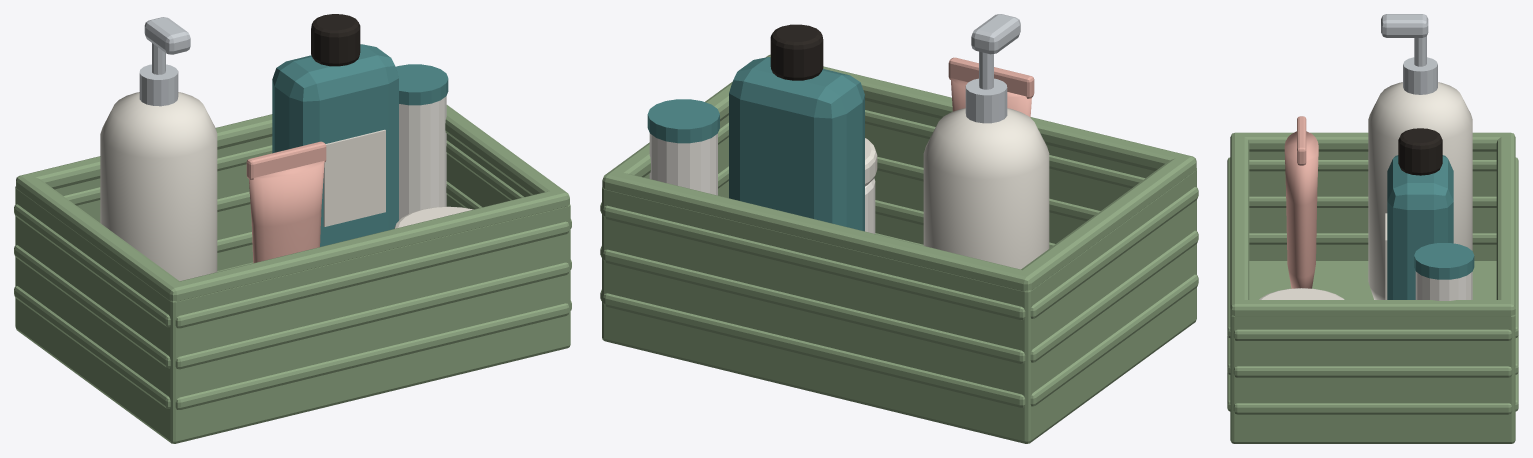
File: hh_cat_toiletries.glb
The picture shows the model from 3 angles, left to right: view 1: azimuth 30°, elevation 25°; view 2: azimuth 150°, elevation 25°; view 3: azimuth 270°, elevation 25°; orthographic projection. The views are drawn at different scales.
Parts seen in each view (by area): view 1: basket.001, pump_bottle, basket.002, shampoo, rim, tube, weave, weave.004, weave.008, shampoo_sticker, cotton_tub, rim.001 (+16 smaller); view 2: basket.003, basket.002, shampoo, pump_bottle, rim.002, basket.001, weave.002, weave.006, weave.010, rim, rim.001, cotton_tub (+15 smaller); view 3: basket.004, pump_bottle, basket.002, shampoo, basket, rim.003, tube, rim, rim.002, weave.007, weave.003, weave.011 (+16 smaller).
Part boxes in pixels (bbox=[...]): basket.001: bbox=[167, 205, 568, 443]; pump_bottle: bbox=[100, 92, 217, 280]; basket.002: bbox=[15, 186, 180, 443]; shampoo: bbox=[272, 44, 398, 246]; rim: bbox=[164, 190, 567, 300]; tube: bbox=[249, 161, 324, 263]; weave: bbox=[175, 303, 569, 410]; weave.004: bbox=[175, 262, 569, 369]; weave.008: bbox=[175, 221, 569, 328]; shampoo_sticker: bbox=[323, 129, 385, 226]; cotton_tub: bbox=[399, 96, 446, 220]; rim.001: bbox=[16, 173, 186, 301]; basket.003: bbox=[602, 189, 1033, 443]; basket.002: bbox=[1019, 169, 1196, 443]; shampoo: bbox=[729, 57, 864, 231]; pump_bottle: bbox=[923, 108, 1049, 269]; rim.002: bbox=[608, 170, 1036, 288]; basket.001: bbox=[865, 100, 1196, 323]; weave.002: bbox=[603, 293, 1025, 407]; weave.006: bbox=[603, 249, 1025, 363]; weave.010: bbox=[603, 205, 1025, 320]; rim: bbox=[769, 56, 1196, 173]; rim.001: bbox=[1014, 154, 1195, 291]; cotton_tub: bbox=[649, 133, 717, 195]; basket.004: bbox=[1230, 315, 1515, 443]; pump_bottle: bbox=[1368, 82, 1472, 299]; basket.002: bbox=[1249, 151, 1496, 260]; shampoo: bbox=[1387, 155, 1453, 299]; basket: bbox=[1235, 261, 1510, 440]; rim.003: bbox=[1230, 300, 1515, 316]; tube: bbox=[1284, 131, 1318, 288]; rim: bbox=[1230, 132, 1249, 316]; rim.002: bbox=[1496, 132, 1515, 316]; weave.007: bbox=[1233, 366, 1512, 377]; weave.003: bbox=[1233, 403, 1512, 414]; weave.011: bbox=[1233, 329, 1512, 340].
Size of the model in its own units: 0.26 by 0.2 by 0.18.
